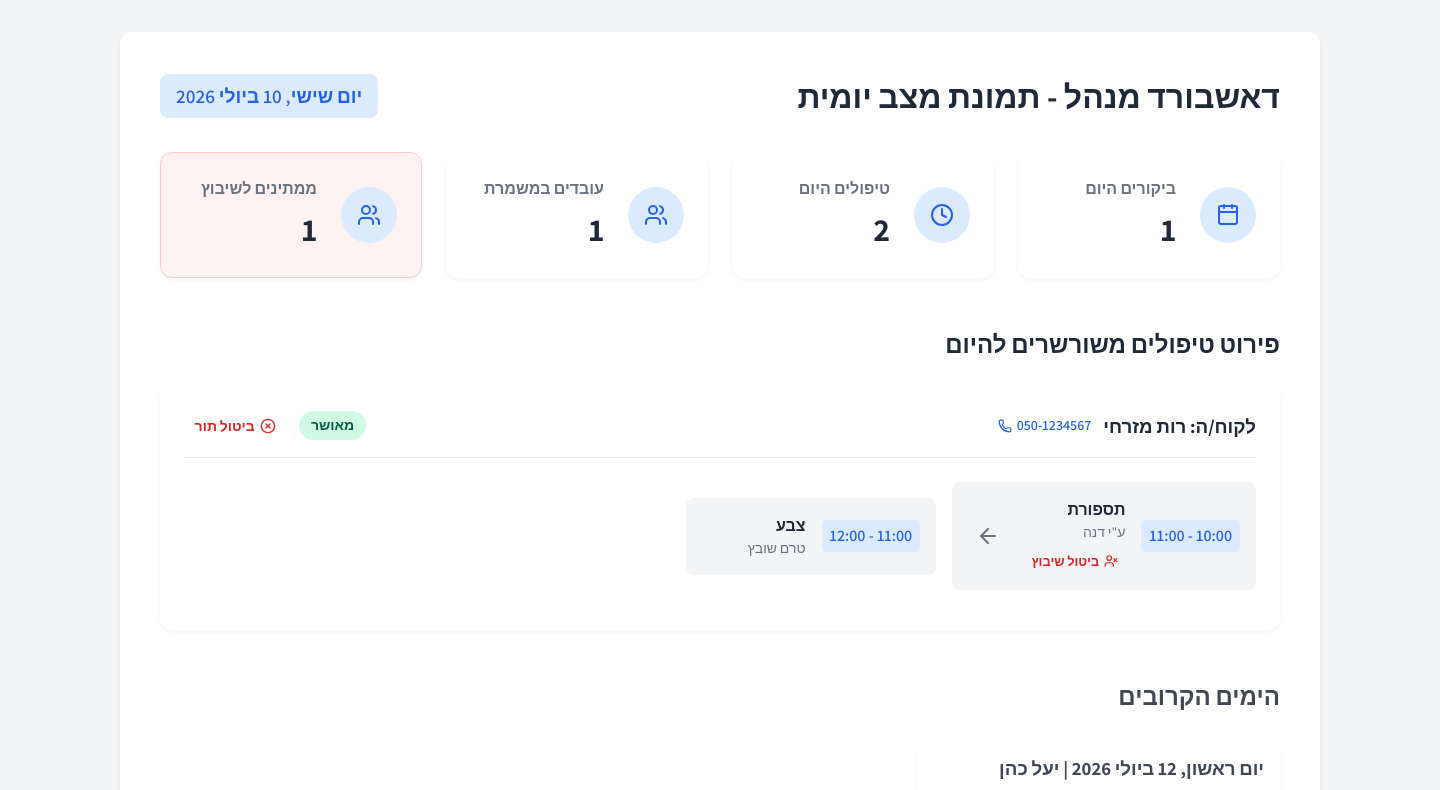
ManagerDashboardPage › cancelling an appointment › cancels after confirmation and removes the appointment from the view
Expected: the heading "לקוח/ה: רות מזרחי" is shown, [1103, 412, 1256, 440]
Click the button "ביטול תור". click: x=236, y=426
box: [184, 410, 287, 441]
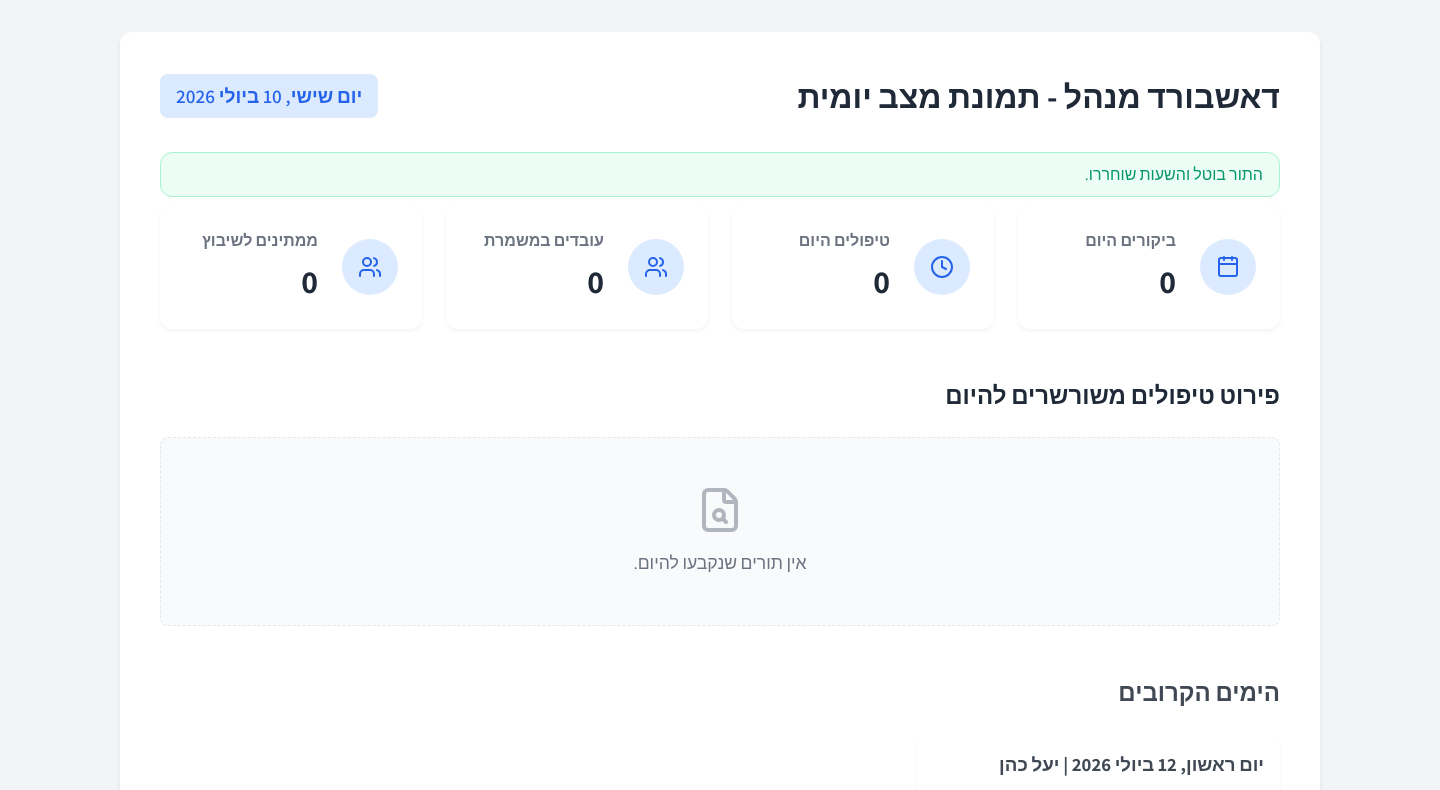
Expected: the text "התור בוטל והשעות שוחררו." is shown, [160, 152, 1280, 197]
Expected: the heading "לקוח/ה: רות מזרחי" is gone
